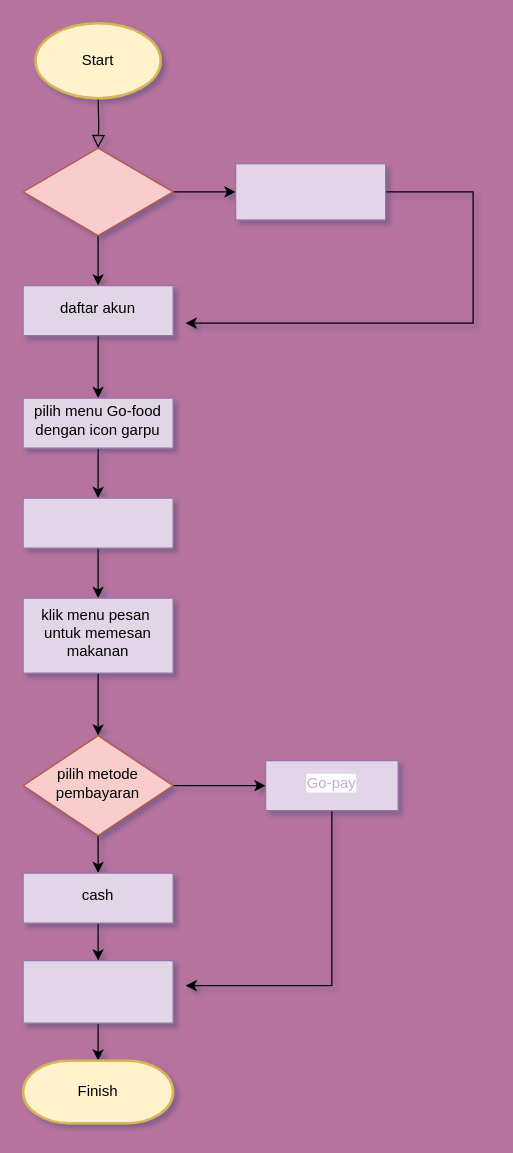
The diagram is 513 pixels wide and 1153 high, and some of its shapes have lost their labels. Here are the shapes that lost their labels. From the top down, the centre of each, then its label:
At (97,191): "Buka aplikasi Go-jek".
At (310,191): "unduh aplikasi terlebih dahulu".
At (97,522): "masukan nama cafe/restaurant".
At (97,991): "menunggu pesanan".
